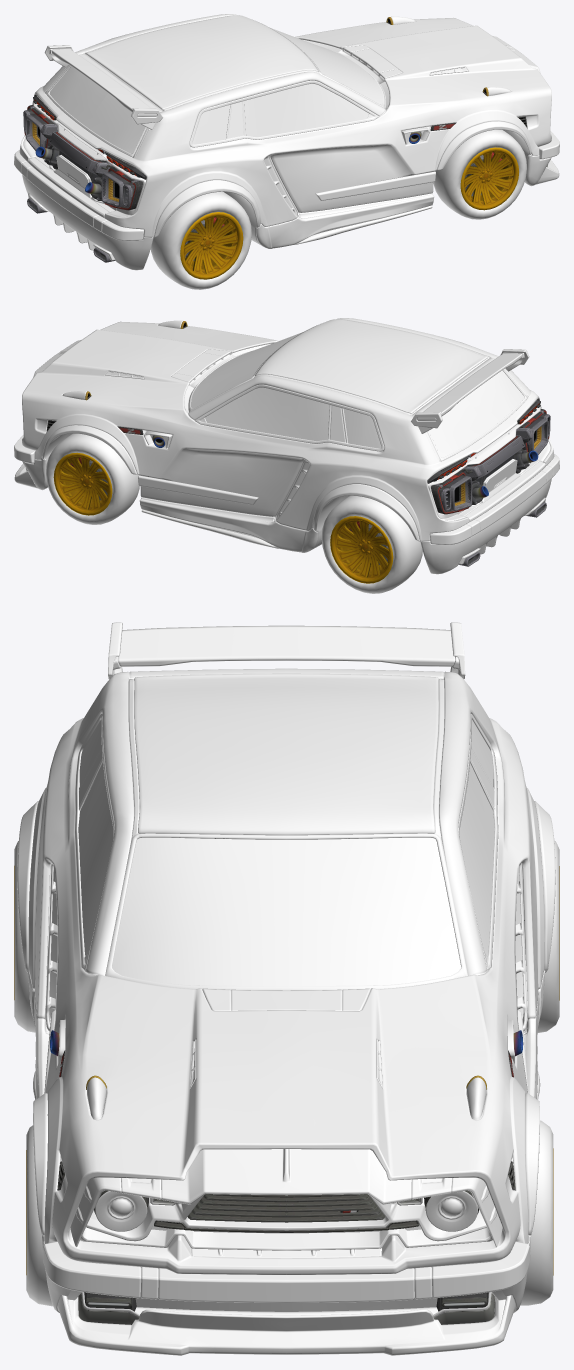
The model's file is rl_fennec.glb.
3 views of the same model, one above another, from view 1: azimuth 30°, elevation 25°; view 2: azimuth 150°, elevation 25°; view 3: azimuth 270°, elevation 25° (orthographic). The views are drawn at different scales.
Visible parts, largest first — view 1: Fennec, Alpha_-_BL_(Fennec), Alpha_-_FL_(Fennec); view 2: Fennec, Alpha_-_BR_(Fennec), Alpha_-_FR_(Fennec); view 3: Fennec, Alpha_-_FR_(Fennec), Alpha_-_FL_(Fennec), Alpha_-_BR_(Fennec), Alpha_-_BL_(Fennec).
Part boxes in pixels (x1=…): Fennec: x1=14, y1=14, x2=559, y2=270; Alpha_-_BL_(Fennec): x1=150, y1=191, x2=251, y2=289; Alpha_-_FL_(Fennec): x1=433, y1=129, x2=526, y2=219; Fennec: x1=14, y1=318, x2=559, y2=574; Alpha_-_BR_(Fennec): x1=321, y1=495, x2=422, y2=593; Alpha_-_FR_(Fennec): x1=46, y1=433, x2=139, y2=524; Fennec: x1=17, y1=622, x2=555, y2=1355; Alpha_-_FR_(Fennec): x1=520, y1=1120, x2=553, y2=1305; Alpha_-_FL_(Fennec): x1=26, y1=1125, x2=52, y2=1306; Alpha_-_BR_(Fennec): x1=537, y1=840, x2=559, y2=1032; Alpha_-_BL_(Fennec): x1=14, y1=841, x2=35, y2=1032.
Size of the model in its own units: 140 by 51.65 by 72.47.
13 materials, 5 textured.
